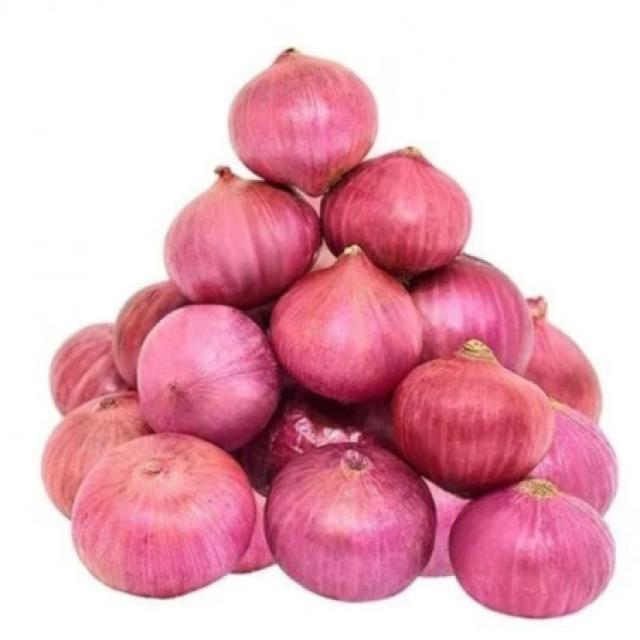healthy: (394, 339, 554, 496), (229, 49, 377, 195), (78, 488, 238, 594), (242, 64, 361, 186), (272, 437, 416, 533), (415, 362, 525, 454), (283, 525, 416, 600), (494, 499, 586, 607), (218, 188, 299, 290), (363, 159, 443, 247), (308, 276, 384, 360), (173, 192, 232, 296), (143, 478, 145, 478)
